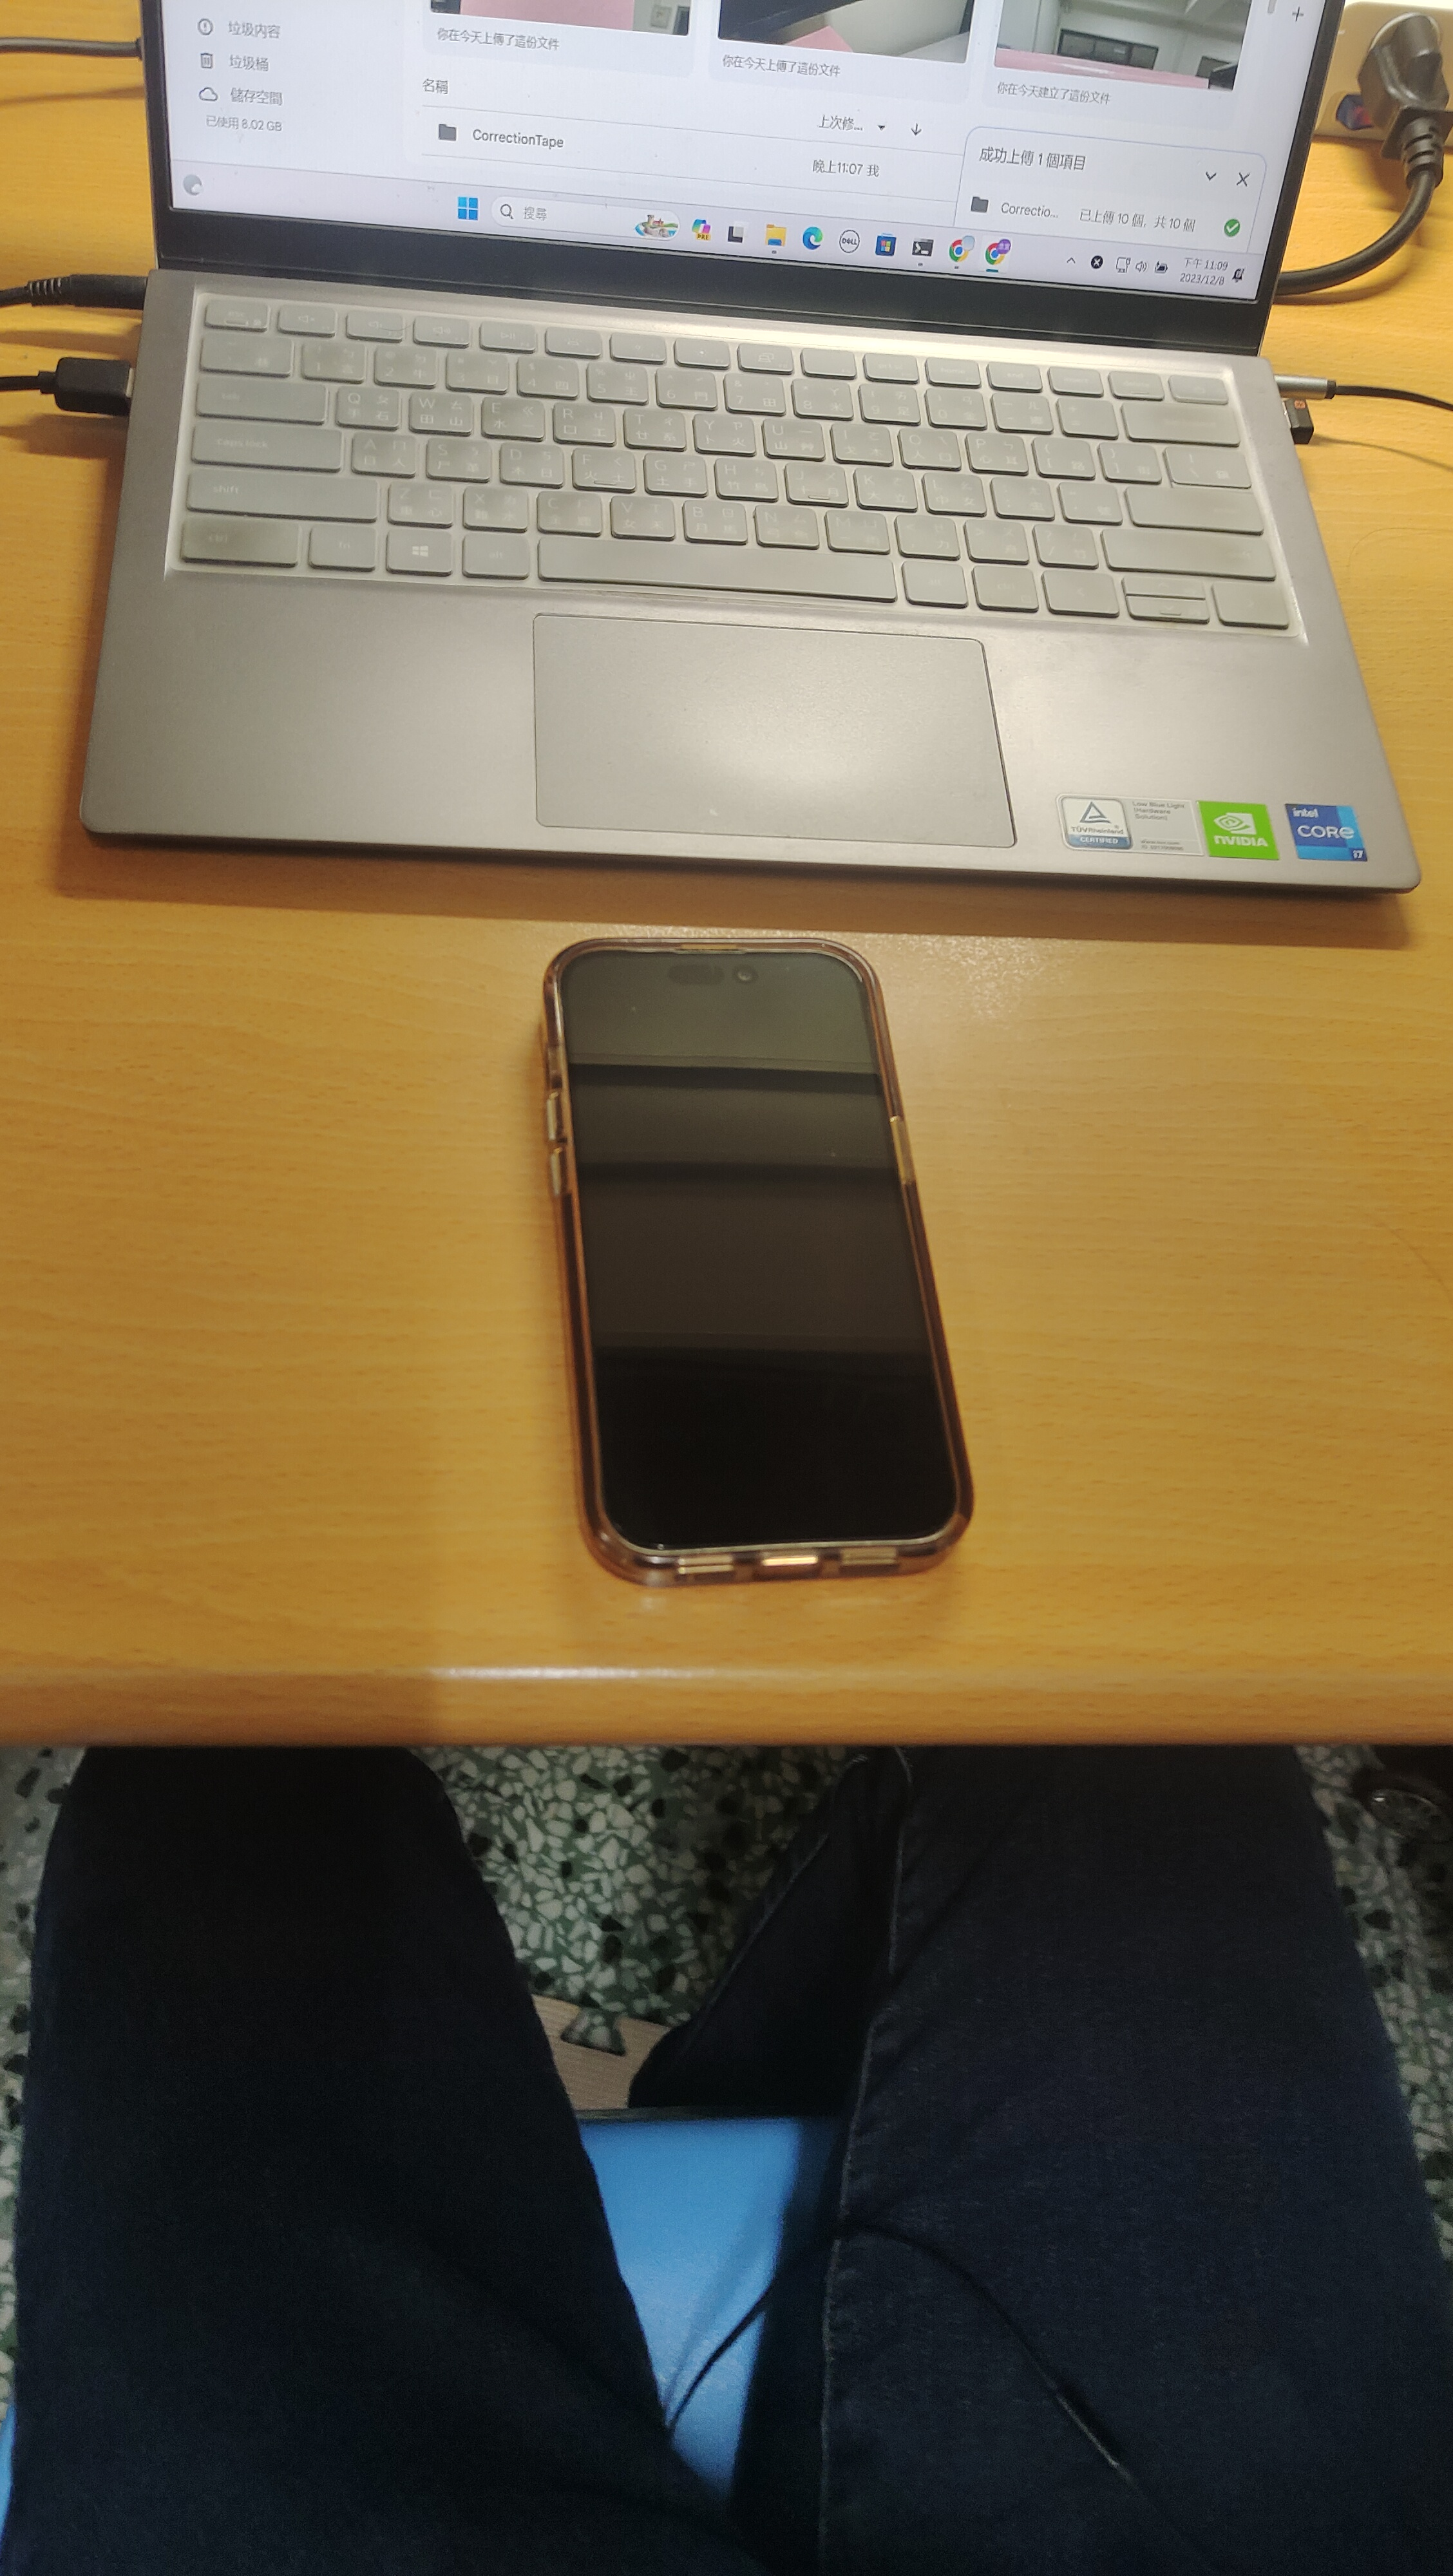iphone: (536, 941, 966, 1596)
